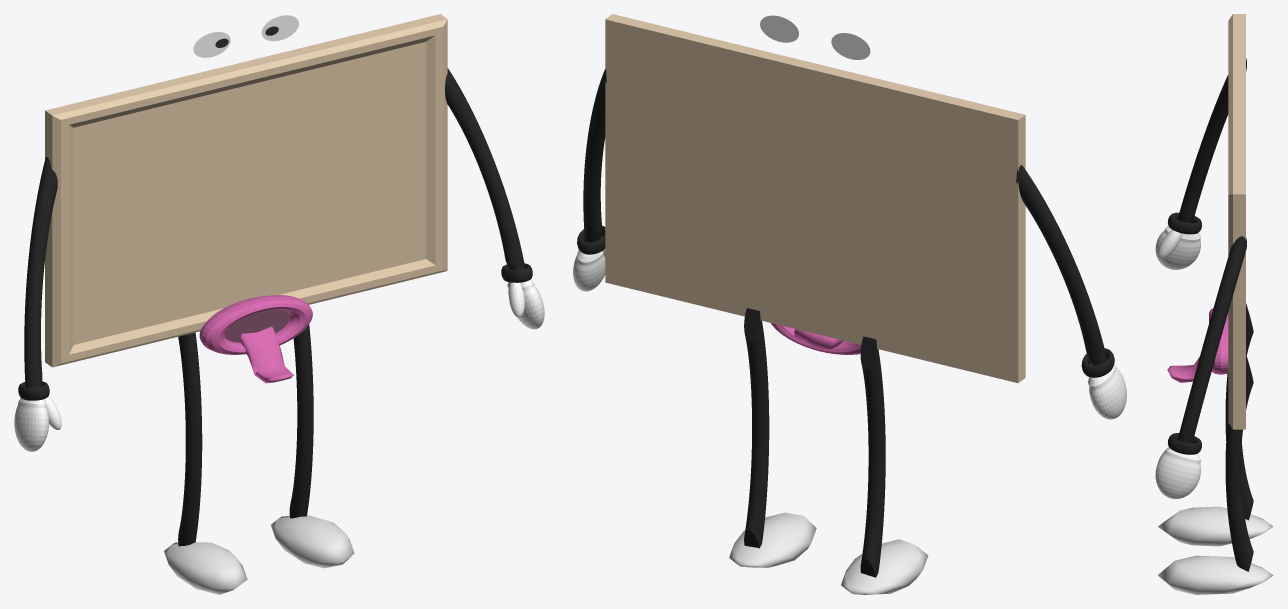
The model's file is miror.glb.
The picture shows the model from 3 angles, left to right: view 1: azimuth 30°, elevation 25°; view 2: azimuth 150°, elevation 25°; view 3: azimuth 270°, elevation 25°; orthographic projection. The views are drawn at different scales.
Parts seen in each view (by area): view 1: Cube.002, Cylinder.003, Cylinder.002, Icosphere.001, Torus.003, Sphere.002, Cube.003, Circle.003, Circle.005, Torus.001, Sphere.003; view 2: Cube.002, Cylinder.002, Cylinder.003, Icosphere.001, Sphere.002, Circle.003, Torus.001; view 3: Cube.002, Icosphere.001, Cylinder.003, Cylinder.002, Sphere.002, Torus.001, Torus.003, Cube.003, Sphere.003.
Part boxes in pixels (x1,y1,x2,y2): Cube.002: (45, 14, 447, 367); Cylinder.003: (24, 68, 525, 387); Cylinder.002: (178, 324, 313, 546); Icosphere.001: (164, 515, 354, 594); Torus.003: (199, 295, 312, 354); Sphere.002: (14, 279, 544, 451); Cube.003: (239, 326, 293, 383); Circle.003: (193, 15, 298, 57); Circle.005: (225, 309, 290, 342); Torus.001: (18, 263, 532, 400); Sphere.003: (43, 282, 524, 429); Cube.002: (605, 14, 1025, 382); Cylinder.002: (744, 308, 885, 577); Cylinder.003: (583, 69, 1106, 365); Icosphere.001: (729, 512, 928, 594); Sphere.002: (573, 237, 1126, 419); Circle.003: (760, 15, 870, 59); Torus.001: (577, 225, 1114, 377); Cube.002: (1228, 14, 1245, 429); Icosphere.001: (1157, 506, 1273, 594); Cylinder.003: (1177, 58, 1246, 443); Cylinder.002: (1225, 303, 1253, 571); Sphere.002: (1155, 226, 1200, 499); Torus.001: (1167, 212, 1201, 454); Torus.003: (1209, 308, 1228, 374); Cube.003: (1167, 356, 1199, 382); Sphere.003: (1157, 230, 1181, 462).
Bounding box in the file's own units: 6.06 × 5.96 × 1.27.
